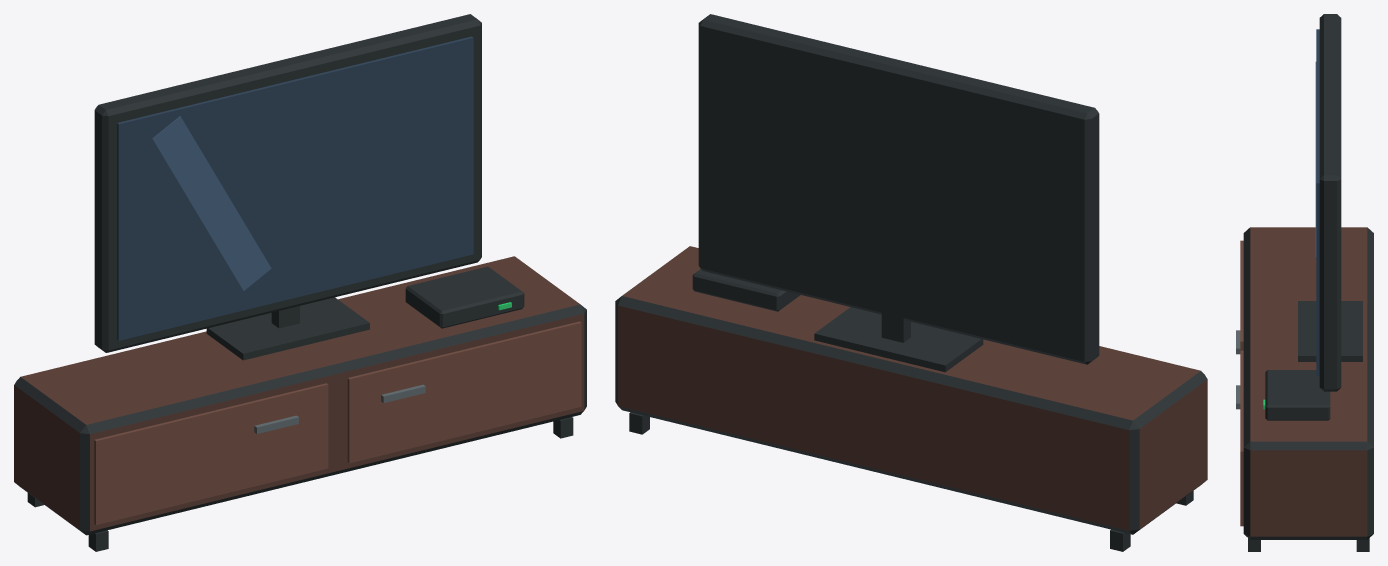
The model's file is tvStand.glb.
3 views of the same model, side by side, from view 1: azimuth 30°, elevation 25°; view 2: azimuth 150°, elevation 25°; view 3: azimuth 270°, elevation 25° (orthographic). The views are drawn at different scales.
Visible parts, largest first — view 1: tvStand-m; view 2: tvStand-m; view 3: tvStand-m.
Part boxes in pixels (x1,y1,x2,y2): tvStand-m: [14, 14, 586, 551]; tvStand-m: [615, 14, 1207, 551]; tvStand-m: [1236, 14, 1373, 551].
Bounding box in the file's own units: 2.4 × 1.8 × 0.635.
